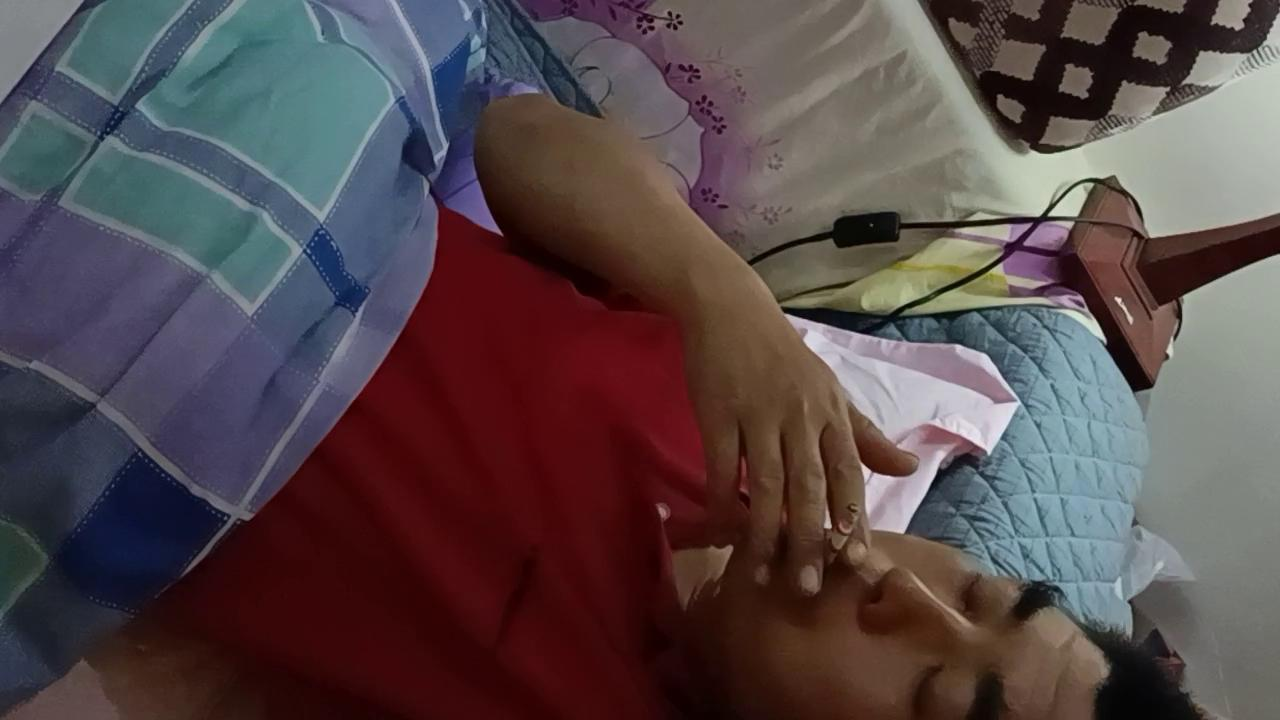smoke: (821, 502, 860, 572)
